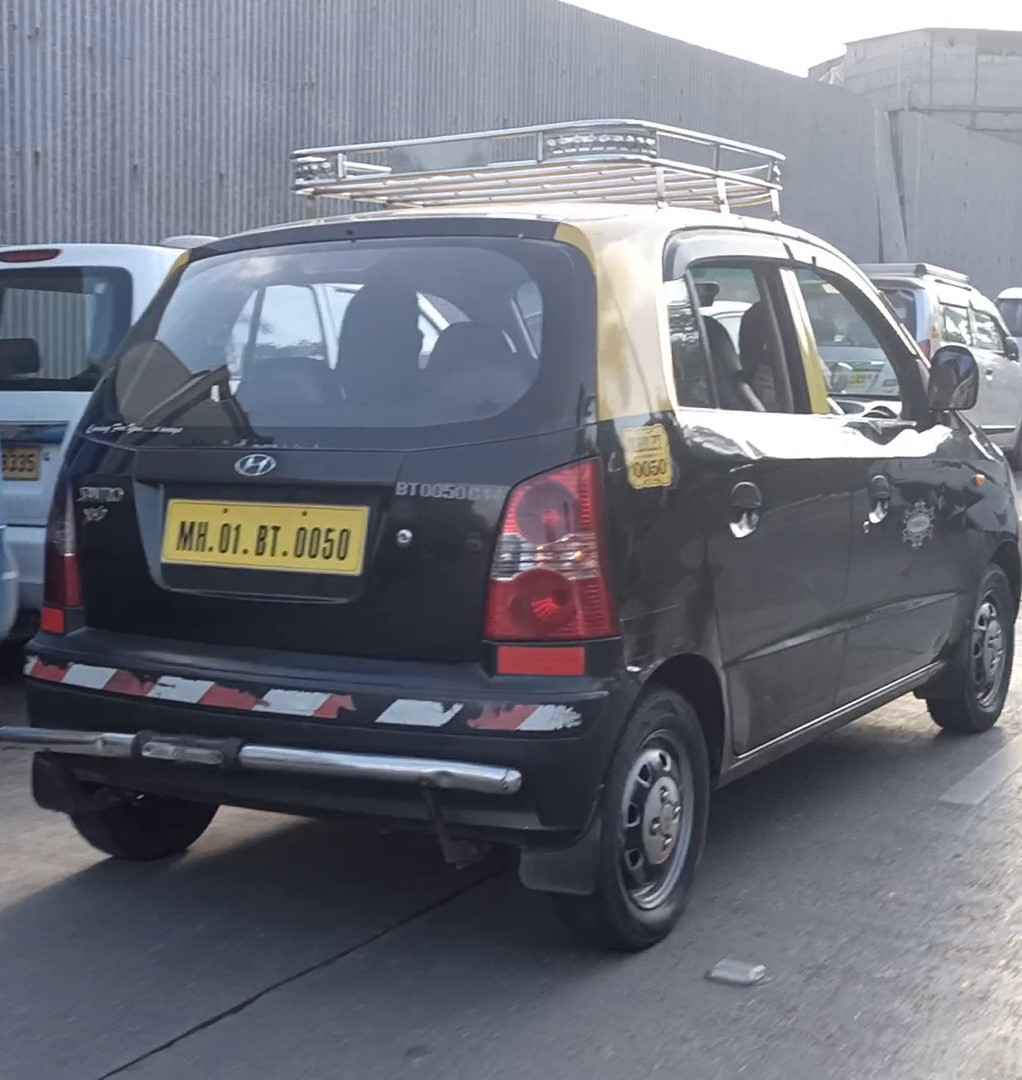MH01BT0050: (160, 498, 371, 577)
